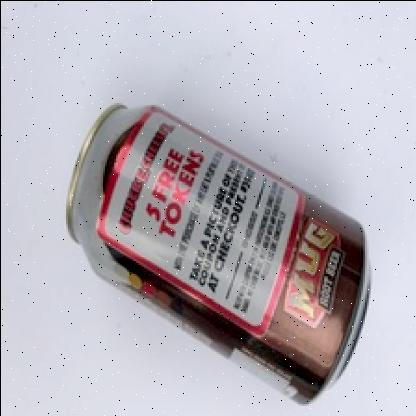Can: (24, 71, 416, 414)
